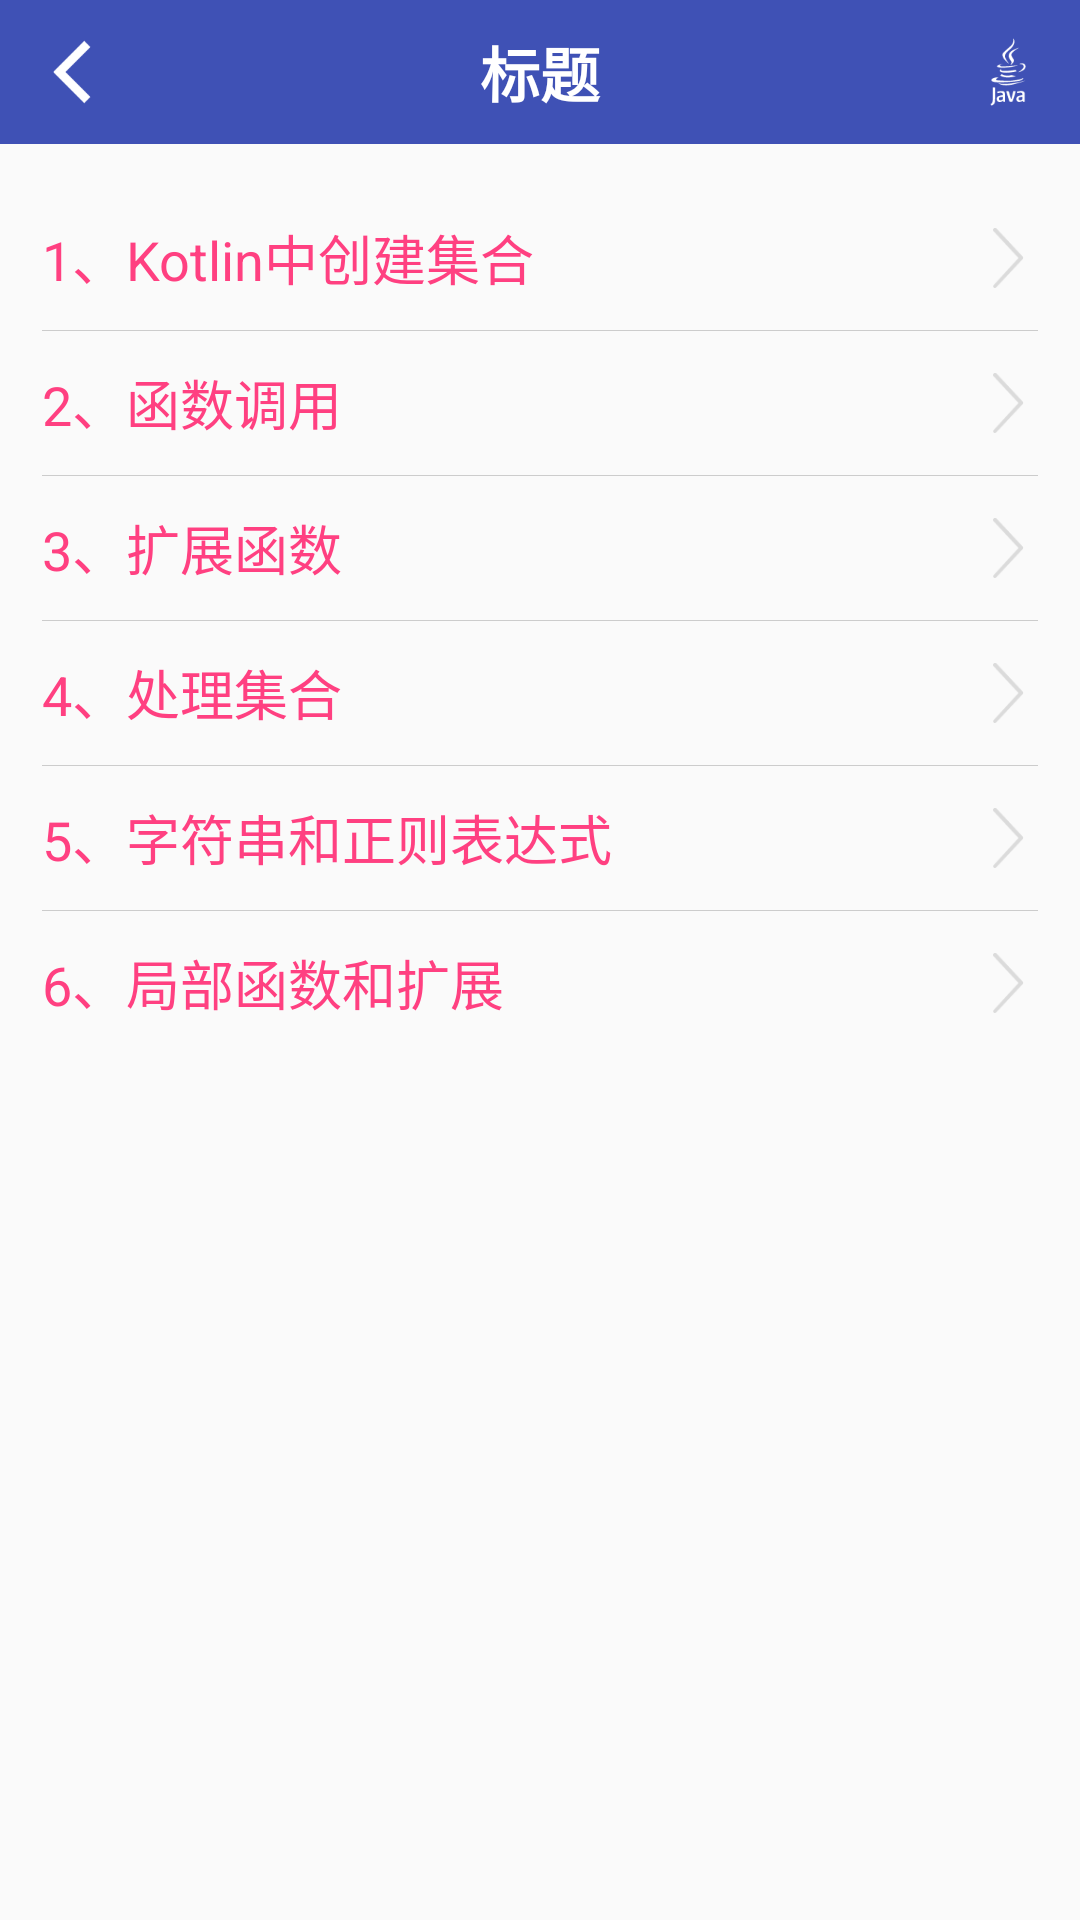

Where to tap for icons on this 1080 x 1920 app screen, as [x,y]:
next: [1008,258], [1008,403], [1008,548], [1008,693], [1008,838], [1008,983]
title back: [71,72]
